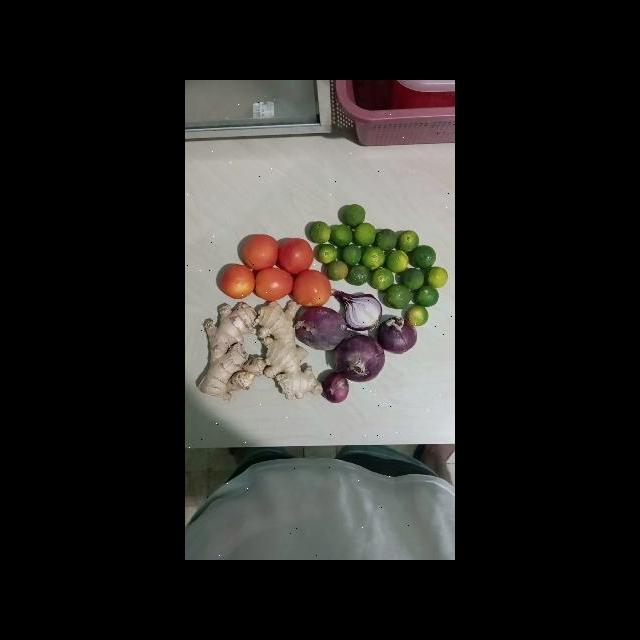ginger: (190, 295, 278, 412), (249, 291, 330, 411)
onion: (321, 281, 397, 338), (290, 302, 363, 359), (328, 331, 392, 384), (371, 312, 427, 359), (313, 365, 362, 409)
